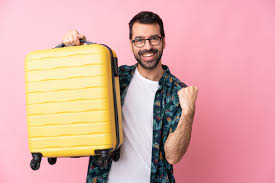white_male: (119, 11, 170, 73)
